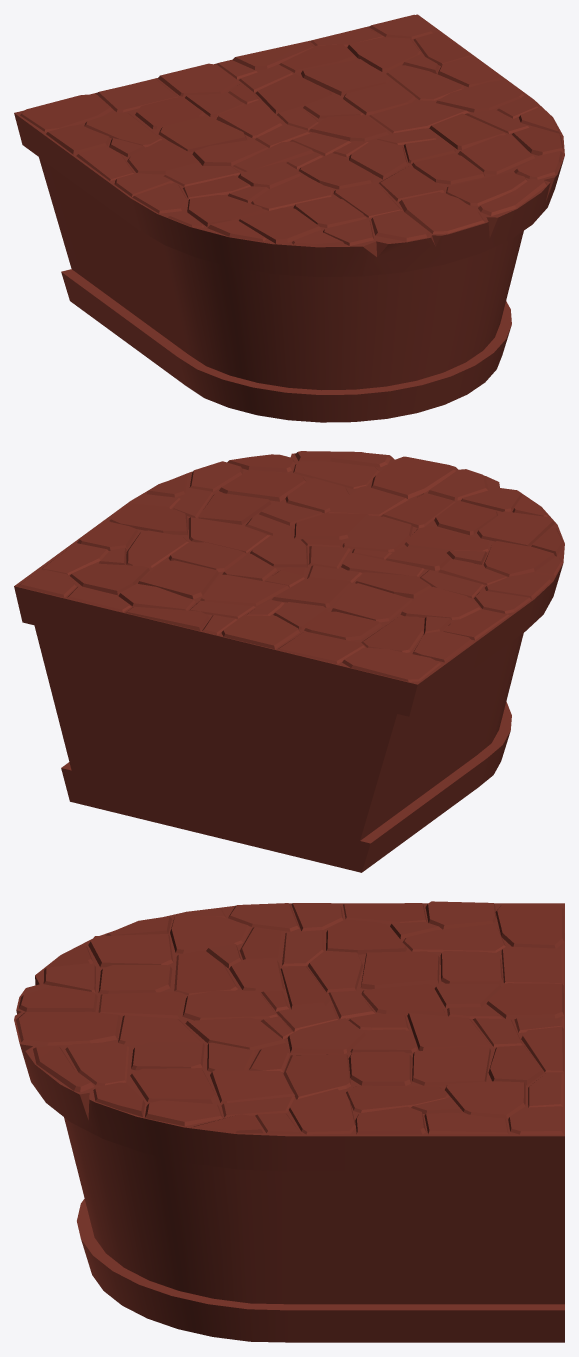
The model's file is platform_002.fbx.
The picture shows the model from 3 angles, top to bottom: view 1: azimuth 30°, elevation 25°; view 2: azimuth 150°, elevation 25°; view 3: azimuth 270°, elevation 25°; orthographic projection. The views are drawn at different scales.
Visible parts, largest first — view 1: platform_002; view 2: platform_002; view 3: platform_002.
Boxes of the visible parts, x1,y1,x2,y2 form: platform_002: (14, 14, 564, 422); platform_002: (14, 451, 564, 872); platform_002: (14, 901, 564, 1342).
Bounding box in the file's own units: 1000 × 1000 × 486.
